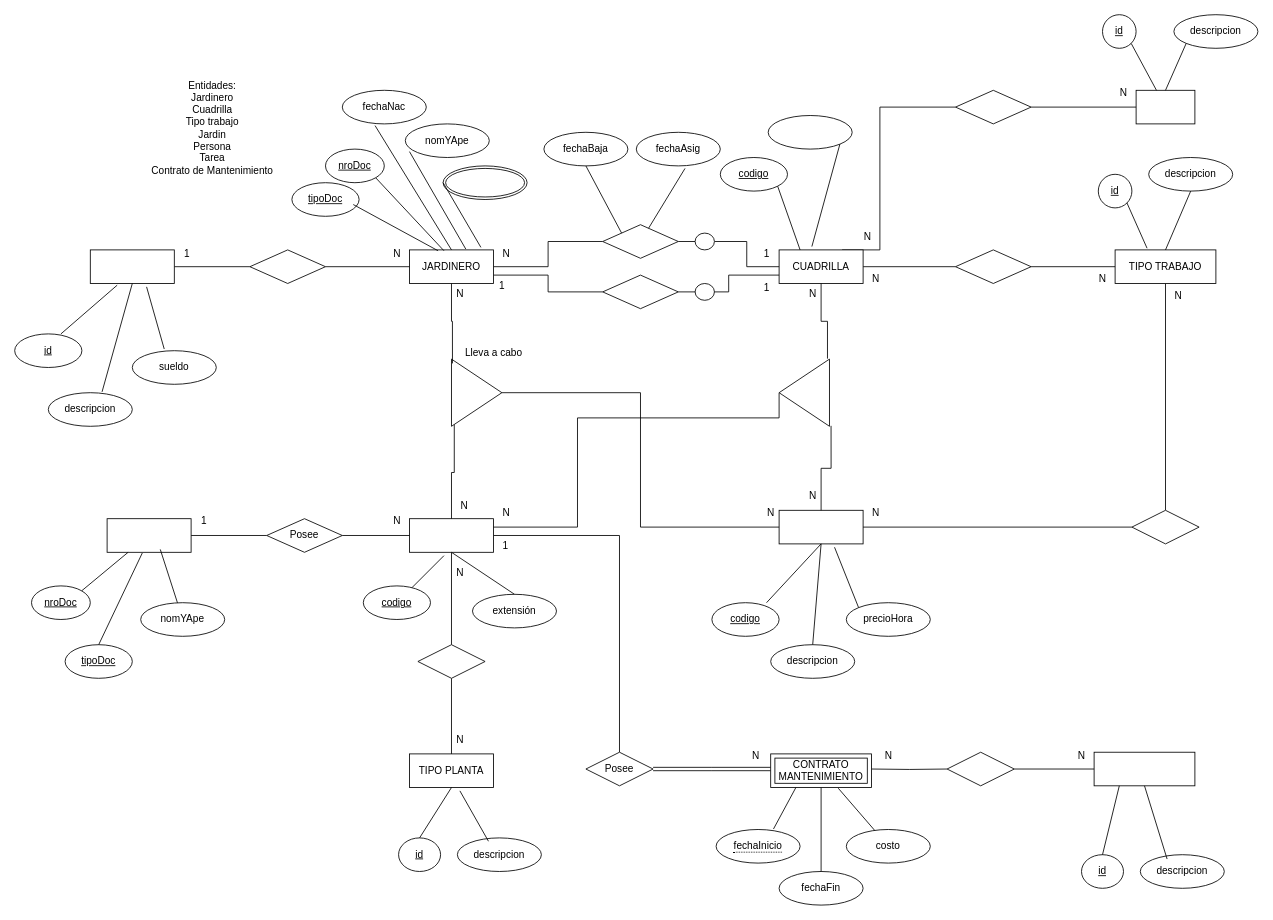
Image size: 1273x920. Some labels were removed from this diagram. Here are the shapes that lost their labels. From the top down, the centre of each, then its label:
At (x=993, y=106): "Se encuentra en".
At (x=1165, y=106): "ZONA".
At (x=809, y=132): "denominacion".
At (x=484, y=182): "telefono".
At (x=640, y=241): "Asignado a".
At (x=131, y=266): "CATEGORIA".
At (x=287, y=266): "Corresponde a".
At (x=993, y=266): "Realiza".
At (x=640, y=291): "Es responsable de".
At (x=804, y=392): "Concreta".
At (x=148, y=535): "PROPIETARIO".
At (x=451, y=535): "JARDÍN".
At (x=820, y=526): "TAREA".
At (x=1165, y=526): "Compuesta por".
At (x=451, y=661): "Tiene".
At (x=980, y=768): "Cuenta con".
At (x=1144, y=768): "TIPO MANTENIMIENTO".
